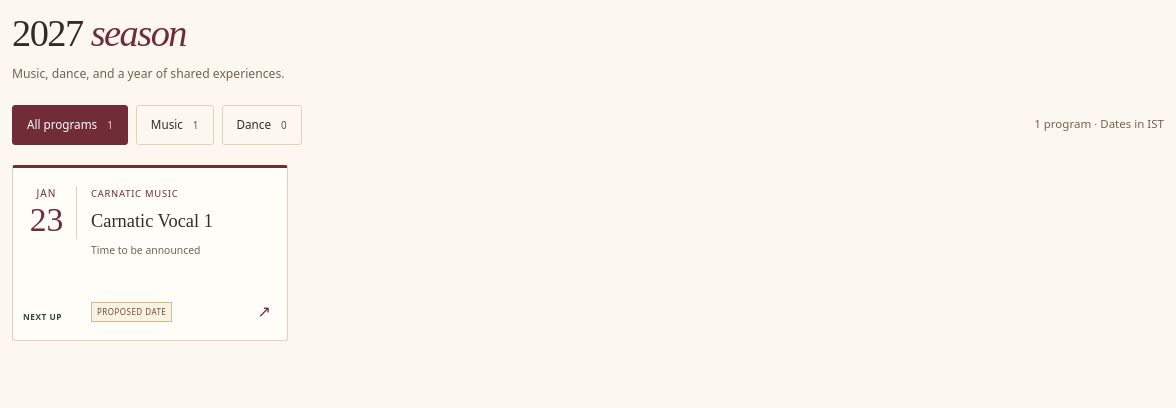
Test: event season overview › offers a clear reset for an empty category and an honest empty dataset
Later steps or results of the test are not shown.
Step 1. Click the button "Dance 0" → (262, 125), box [222,105,302,145]
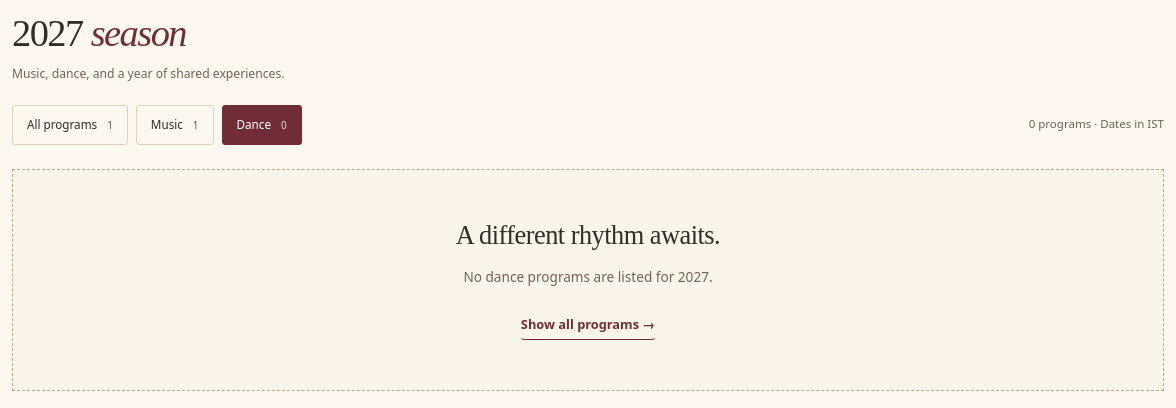
Result: the text "No dance programs are listed for 2027." is shown at [463,267,713,286]
